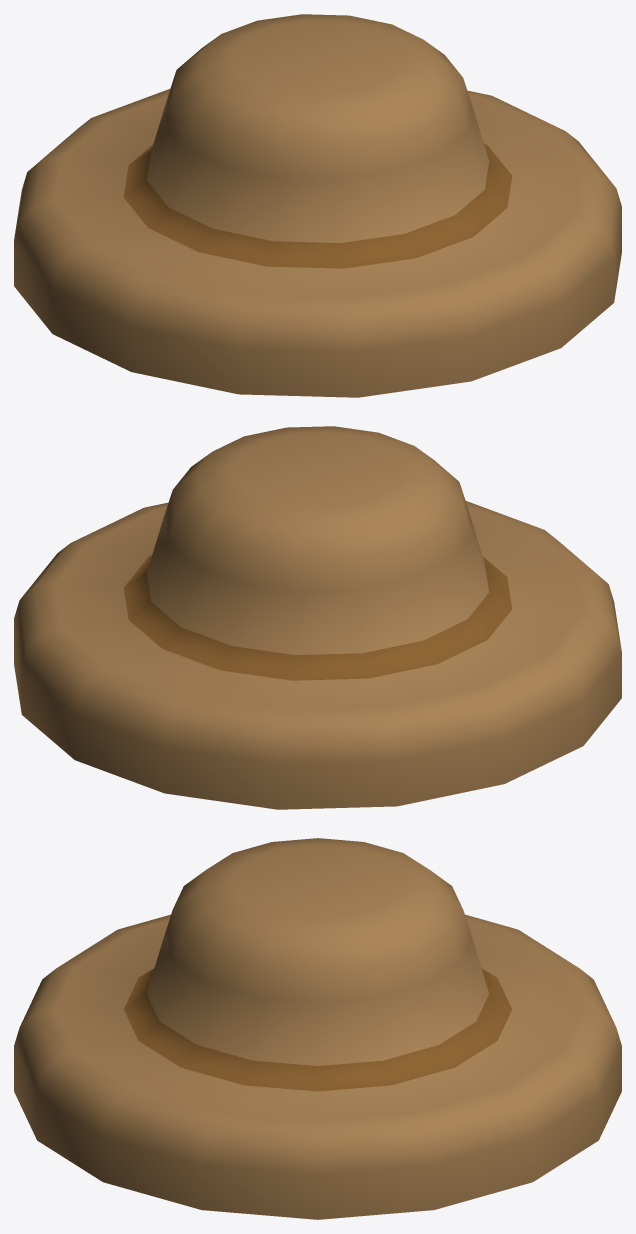
The model's file is Cap_7.fbx.
3 renders of one model, top to bottom at view 1: azimuth 30°, elevation 25°; view 2: azimuth 150°, elevation 25°; view 3: azimuth 270°, elevation 25°, orthographic.
Parts seen in each view (by area): view 1: Cap_7; view 2: Cap_7; view 3: Cap_7.
Part boxes in pixels (<box>): Cap_7: <box>14,14,621,397</box>; Cap_7: <box>14,426,621,809</box>; Cap_7: <box>14,838,621,1219</box>.
Size of the model in its own units: 0.2893 by 0.1101 by 0.2893.
